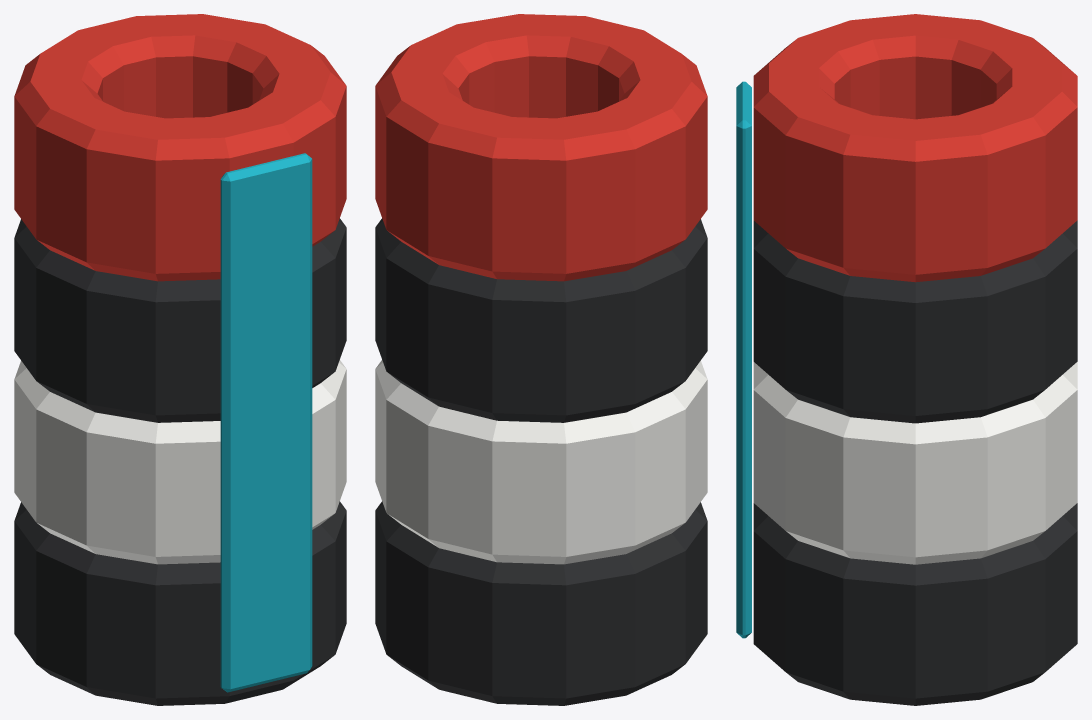
File: tyre_stack.obj
3 renders of one model, left to right at view 1: azimuth 30°, elevation 25°; view 2: azimuth 150°, elevation 25°; view 3: azimuth 270°, elevation 25°, orthographic.
Visible parts, largest first — view 1: tyre_stack; view 2: tyre_stack; view 3: tyre_stack.
Part boxes in pixels (<box>): tyre_stack: <box>14,14,346,705</box>; tyre_stack: <box>375,14,707,705</box>; tyre_stack: <box>736,14,1077,705</box>.
Bounding box in the file's own units: 0.64 × 1.2 × 0.657.
